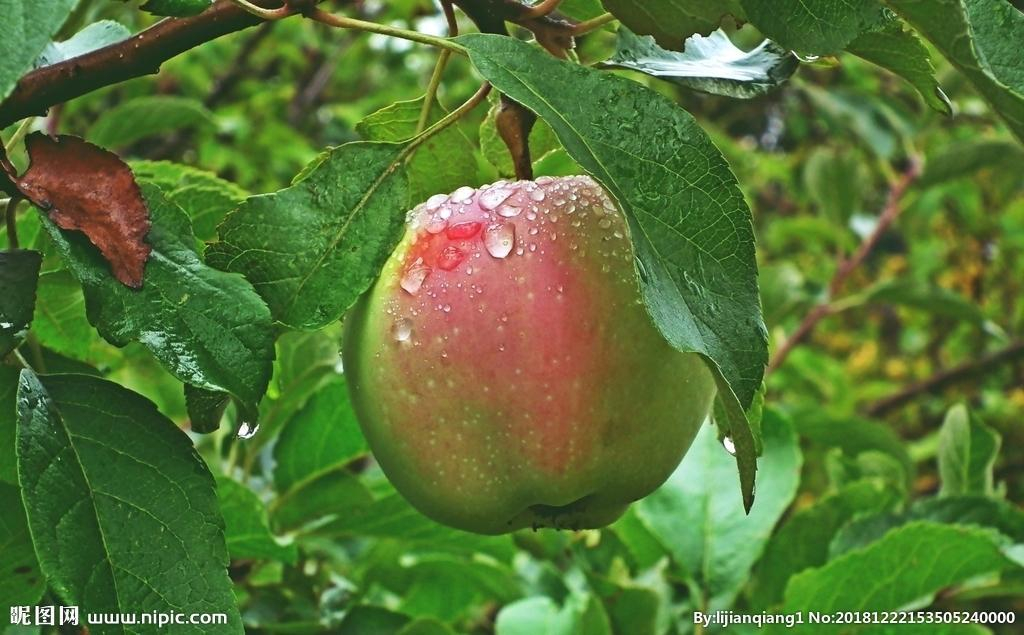apple: (342, 176, 715, 537)
